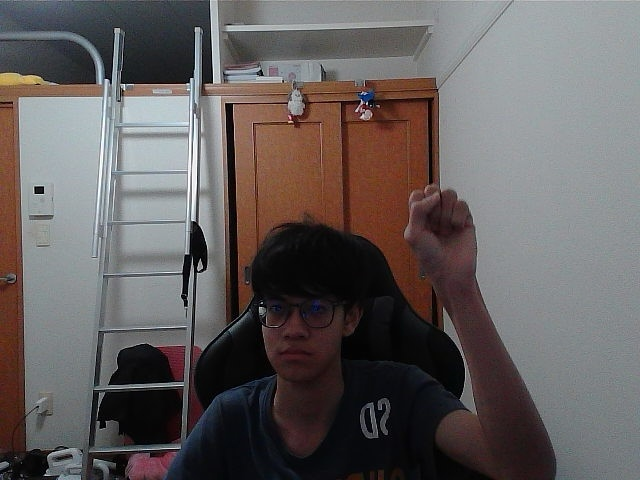closed_palm: (415, 189, 465, 269)
